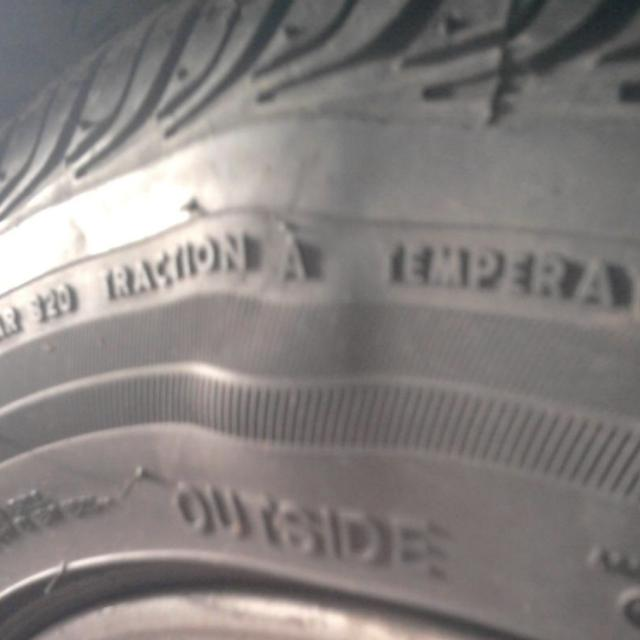Bulge: (161, 186, 382, 602)
